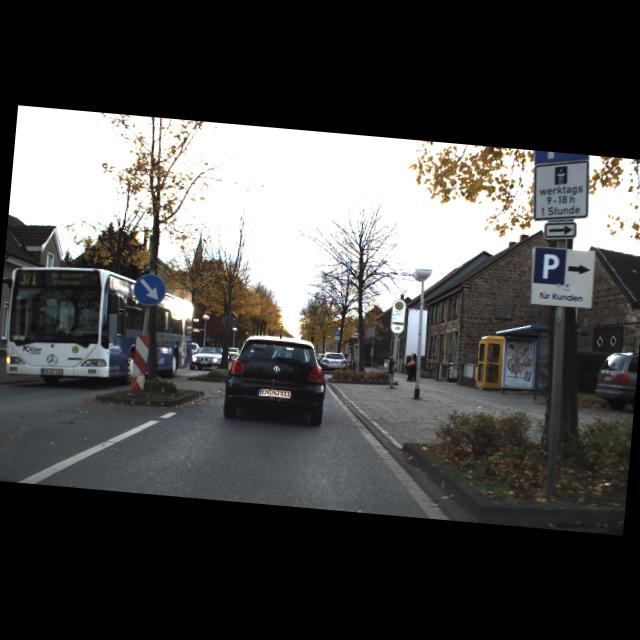mandatory: (132, 272, 166, 306)
